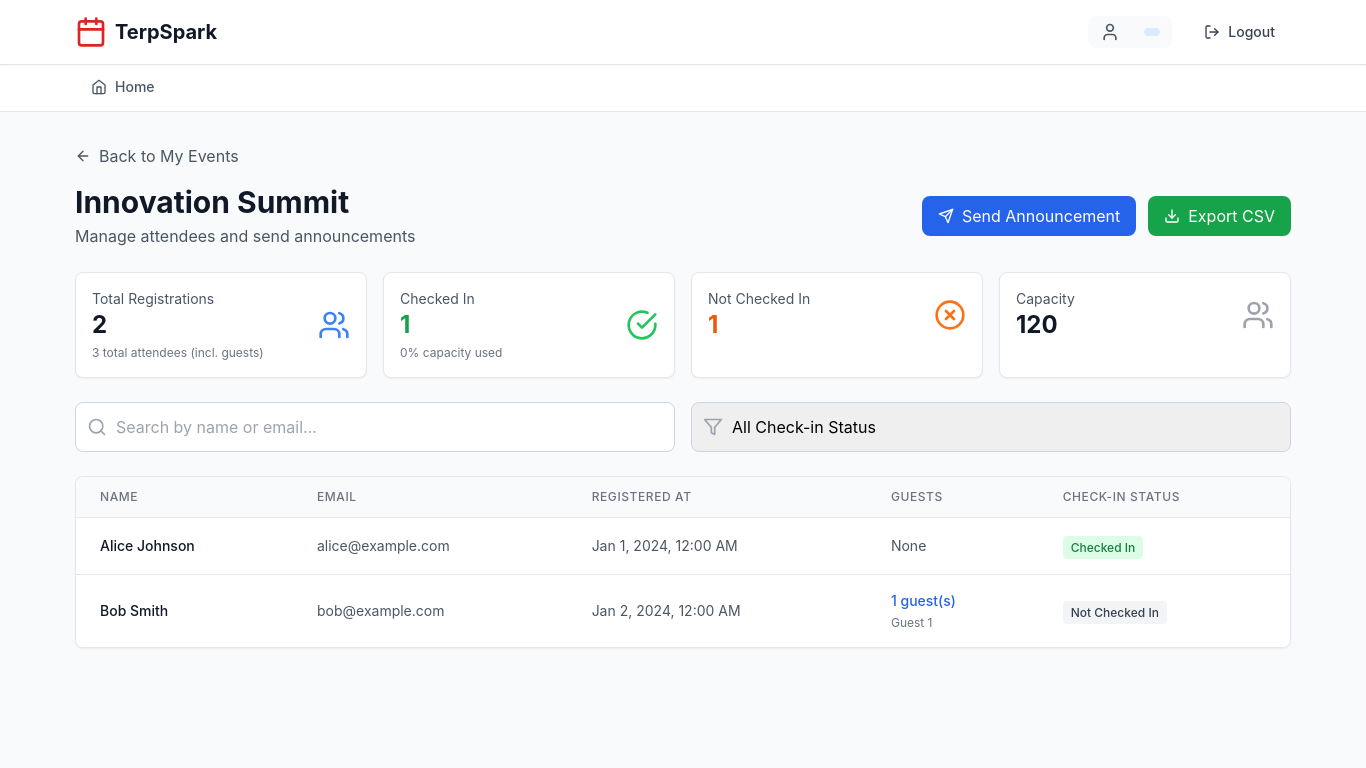
Test case: EventAttendeesPage › filters attendees via search input
The width and height of the screenshot is (1366, 768).
Expected: the heading "Innovation Summit" is shown, [75,184,349,220]
Type "alice" into the field with placeholder "Search by name or email...".
click(375, 427); type("alice")  # box [75,402,675,452]
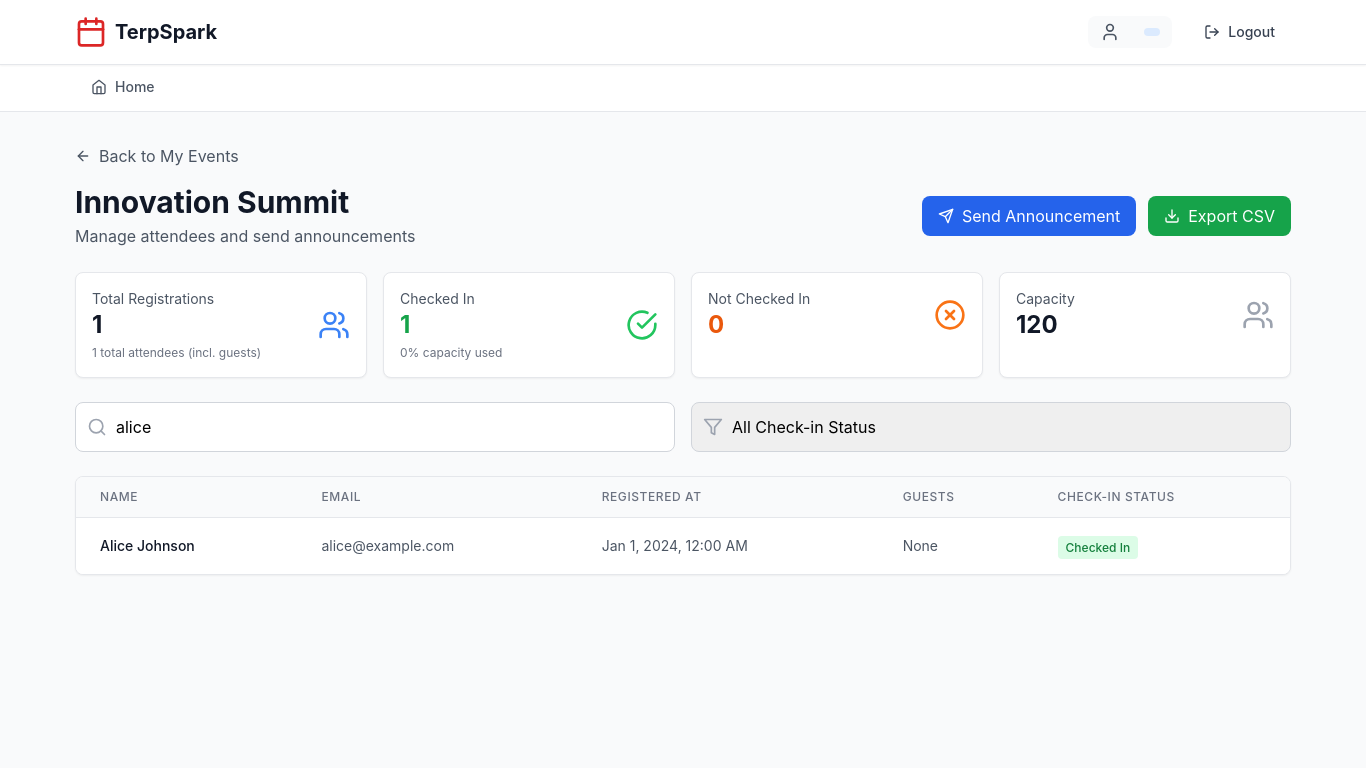
Expected: the text "Alice Johnson" is shown, [100,537,195,554]
Expected: the text "Bob Smith" is gone
Replace the text in the field with placeholder "Search by name or email..." with "unknown" at [375, 427], box [75,402,675,452]
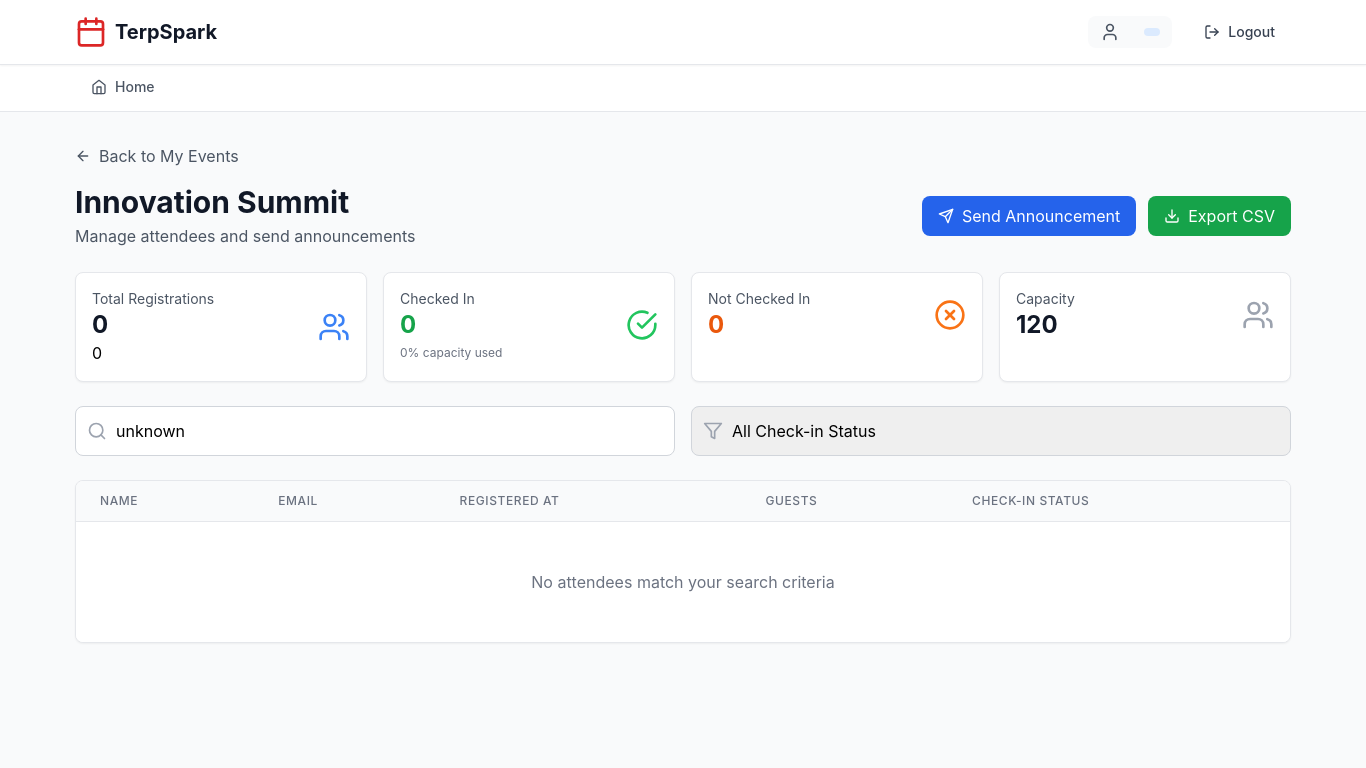
Expected: the text "No attendees match your search criteria" is shown, [76,522,1290,642]
